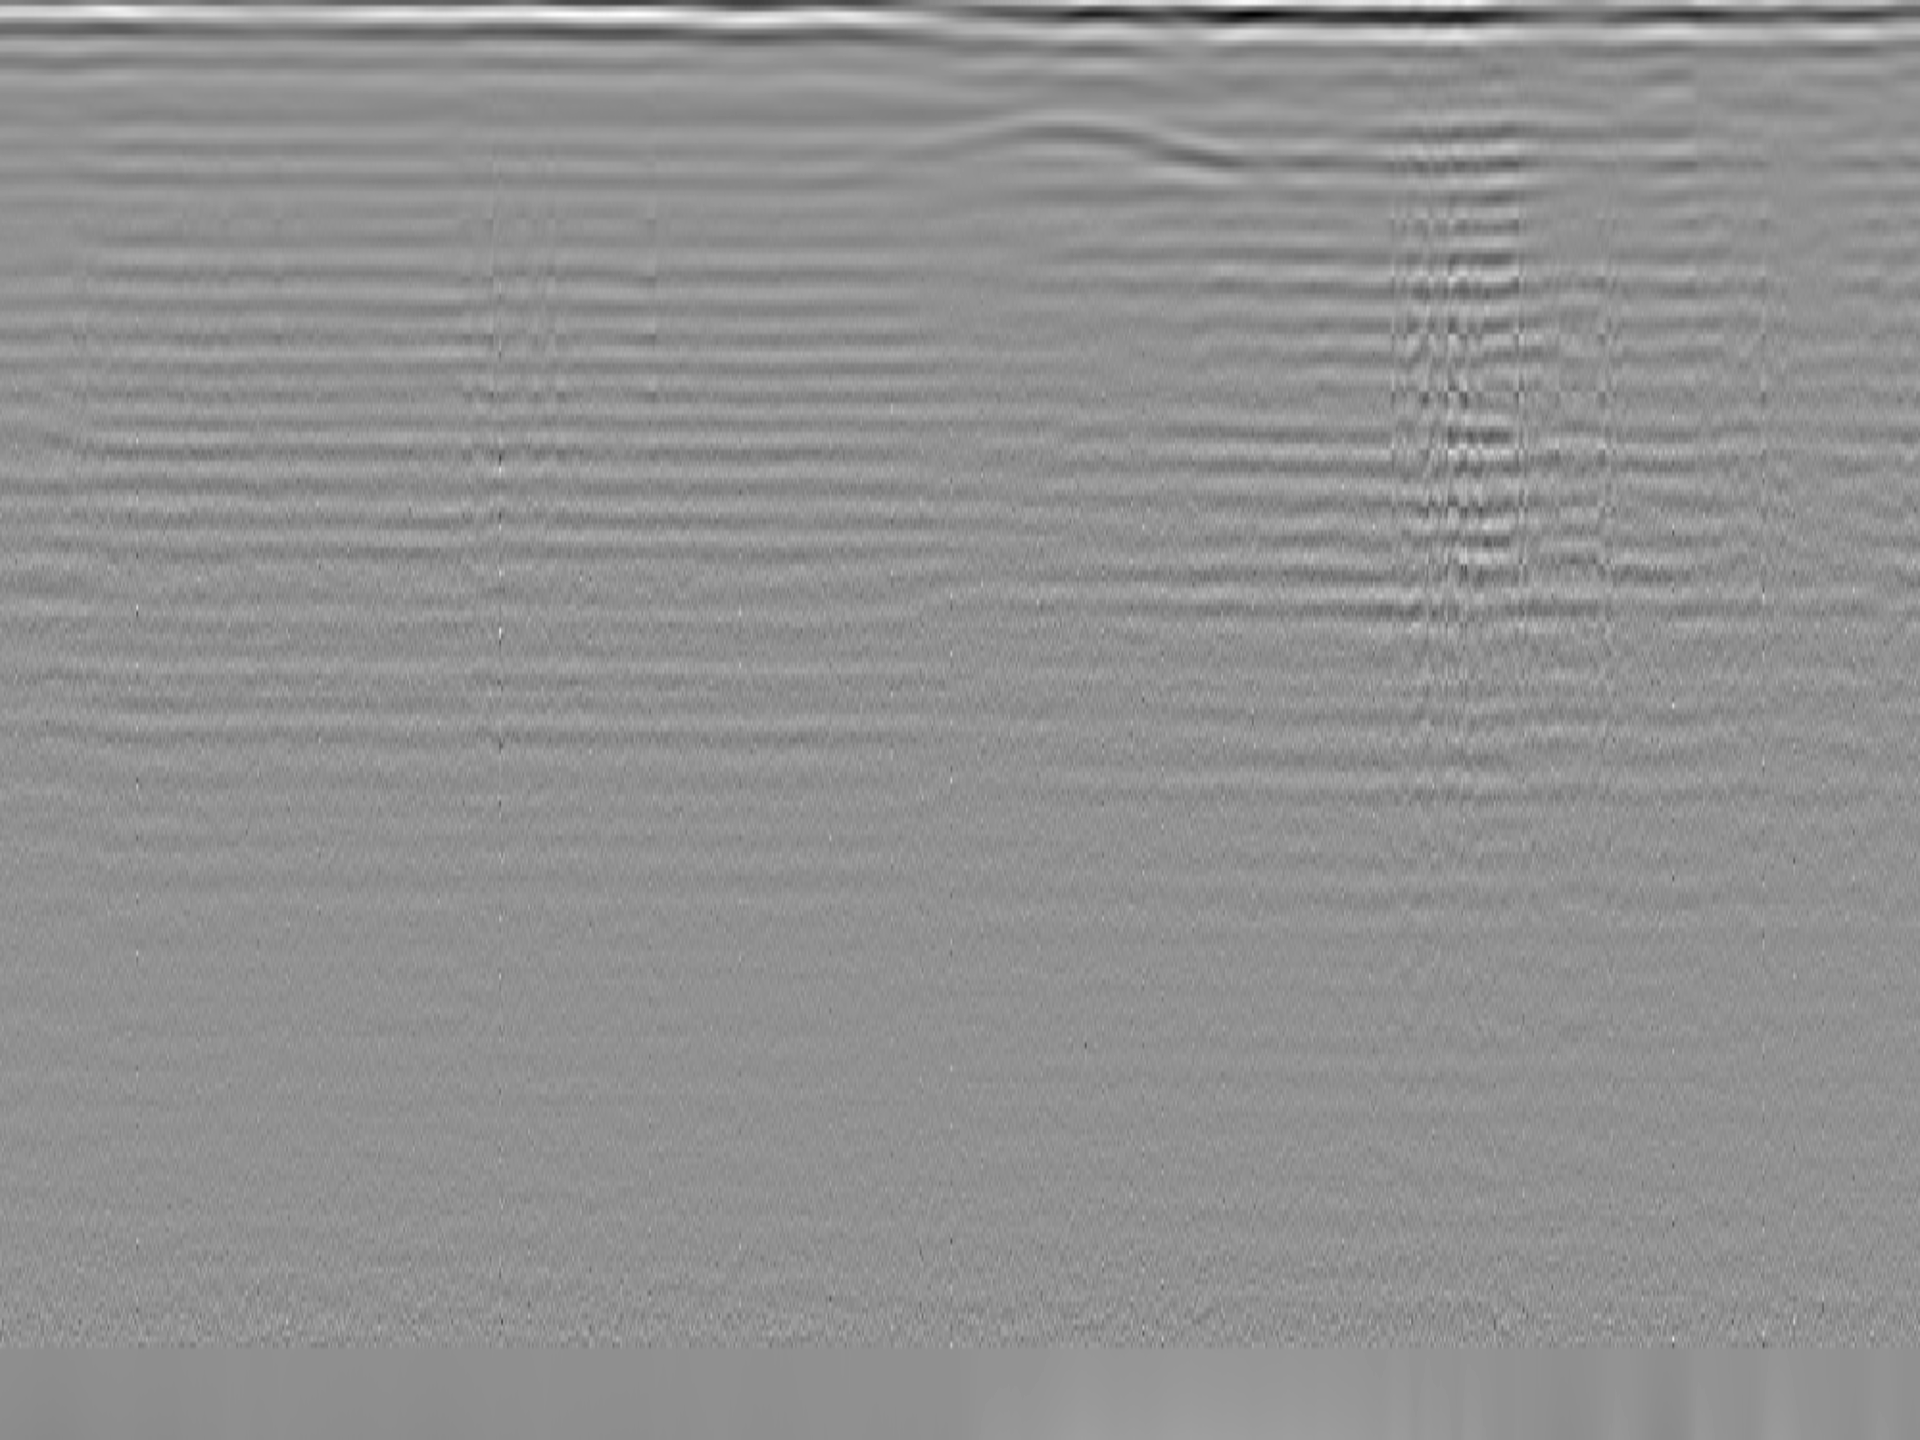Tunnel: (877, 109, 1274, 178)
